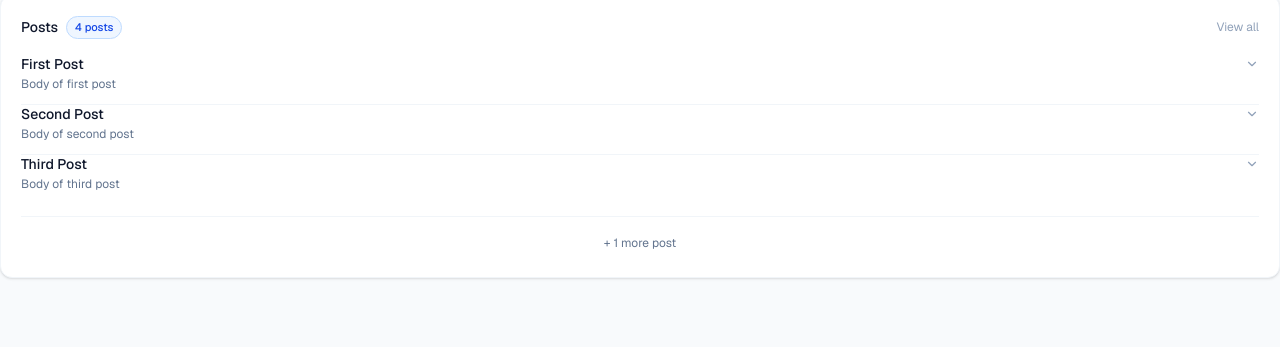
Scenario: UserPostsSection › expands to show all posts when "View all" is clicked
What coordinates should you click on to do the following:
click the button "View all"
I would click on:
 (1238, 27)
Its box is [1216,19,1259,35].
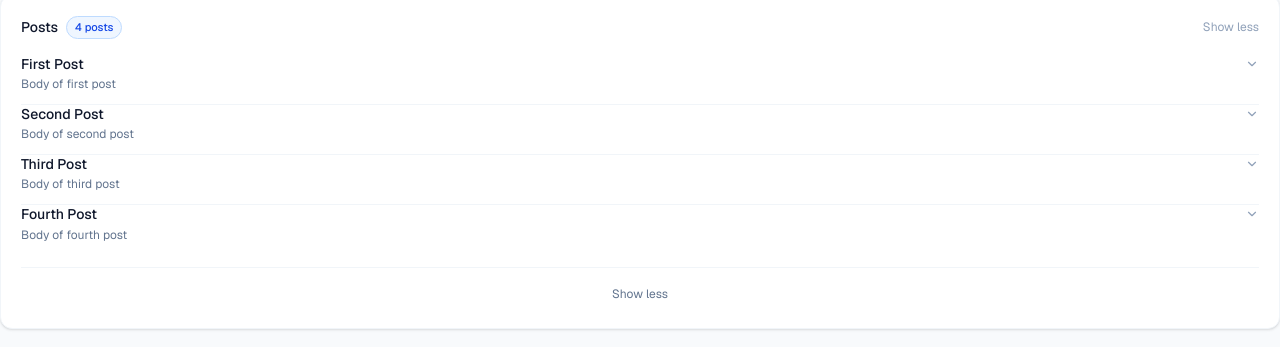
Now the text "Fourth Post" is shown, box [21,205,97,223]
